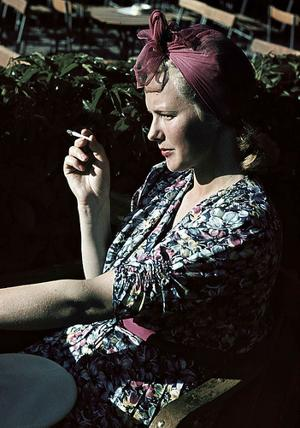person: (1, 6, 284, 428)
